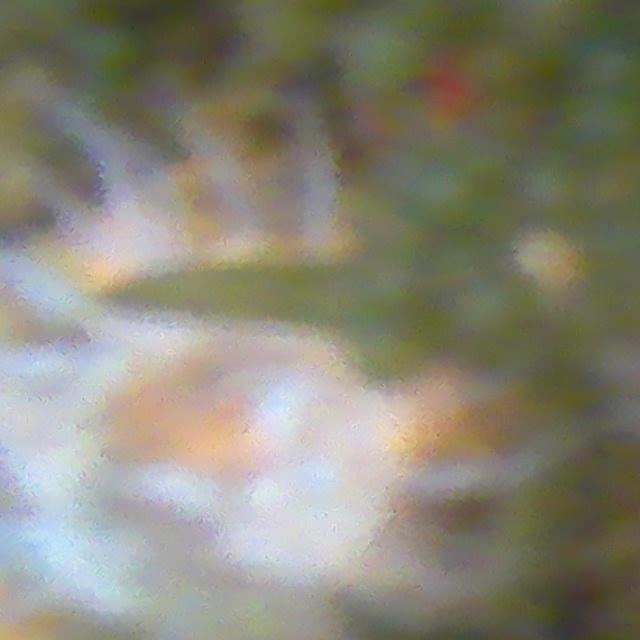SeaGrape: (338, 6, 429, 96), (248, 5, 327, 72)
